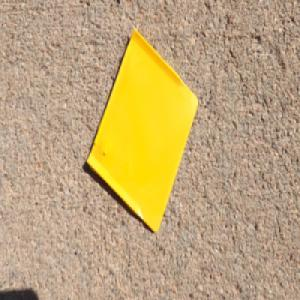PlasticPart: (85, 25, 199, 235)
